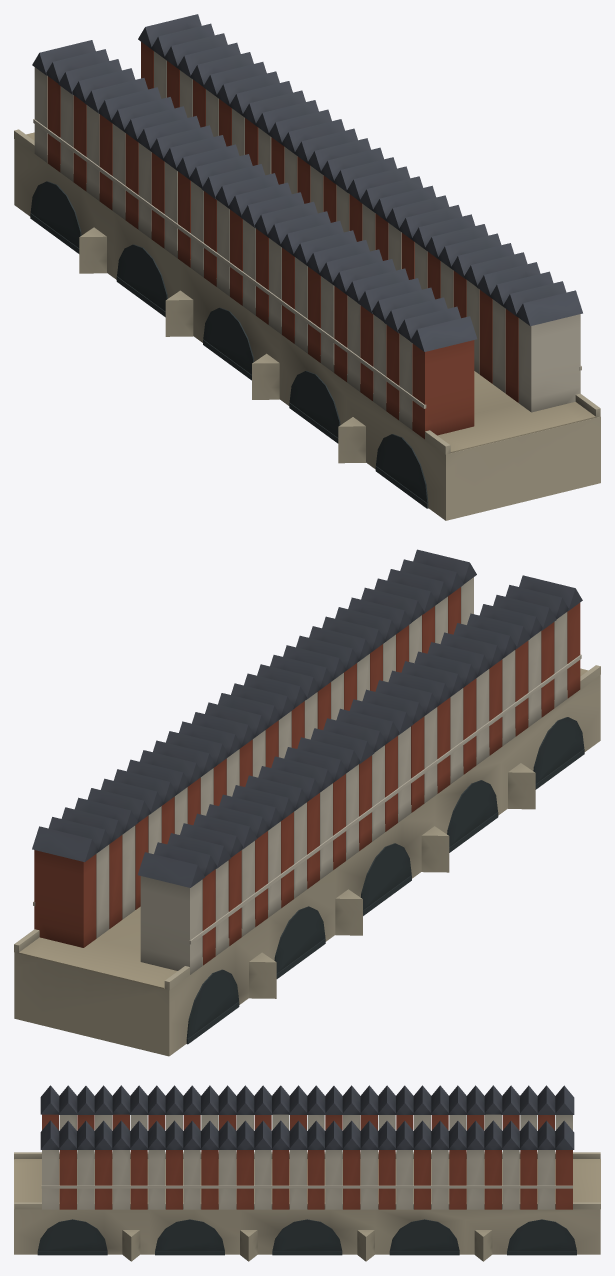
Rendered from pont-notre-dame.glb.
3 renders of one model, top to bottom at view 1: azimuth 30°, elevation 25°; view 2: azimuth 150°, elevation 25°; view 3: azimuth 270°, elevation 25°, orthographic. The views are drawn at different scales.
Visible parts, largest first — view 1: p1_houses, p0_arches; view 2: p1_houses, p0_arches; view 3: p1_houses, p0_arches.
Boxes of the visible parts, x1,y1,x2,y2 form: p1_houses: (32, 14, 582, 439); p0_arches: (14, 129, 600, 520); p1_houses: (32, 549, 582, 974); p0_arches: (14, 665, 600, 1056); p1_houses: (40, 1085, 574, 1209); p0_arches: (14, 1152, 600, 1261).
Bounding box in the file's own units: 28 × 23.44 × 106.
